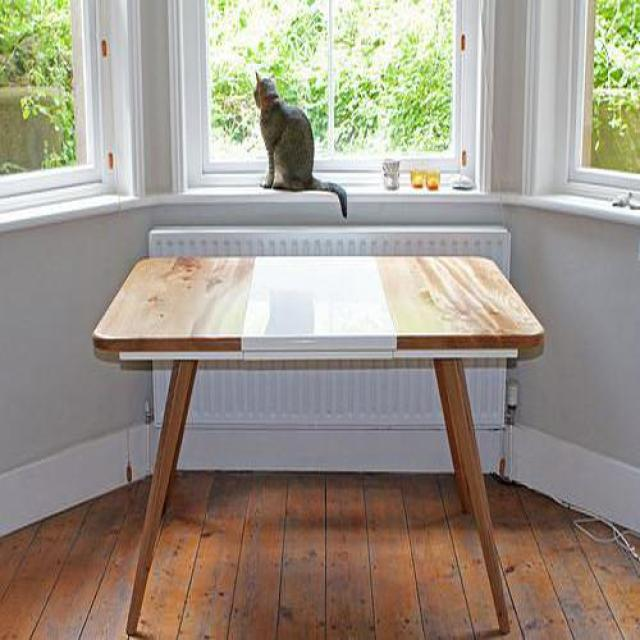table: (91, 256, 544, 640)
